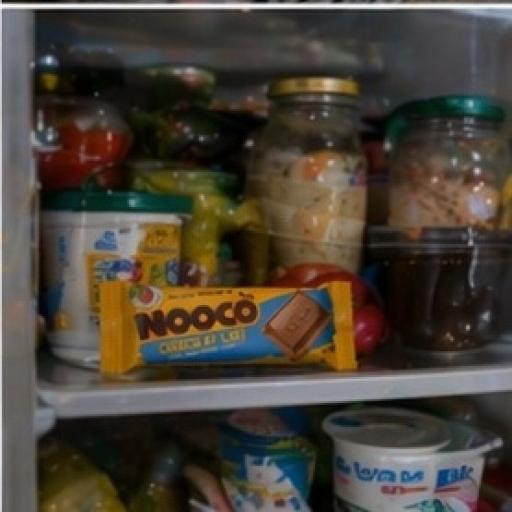biscuit-detection: (41, 246, 373, 391)
